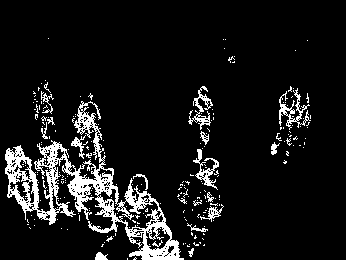person: (74, 164, 120, 260), (180, 155, 222, 254), (116, 172, 167, 251), (33, 140, 77, 227), (2, 142, 41, 232), (74, 96, 105, 168), (188, 85, 211, 165), (288, 91, 311, 166), (138, 221, 182, 260), (275, 83, 297, 158), (33, 79, 56, 142)
